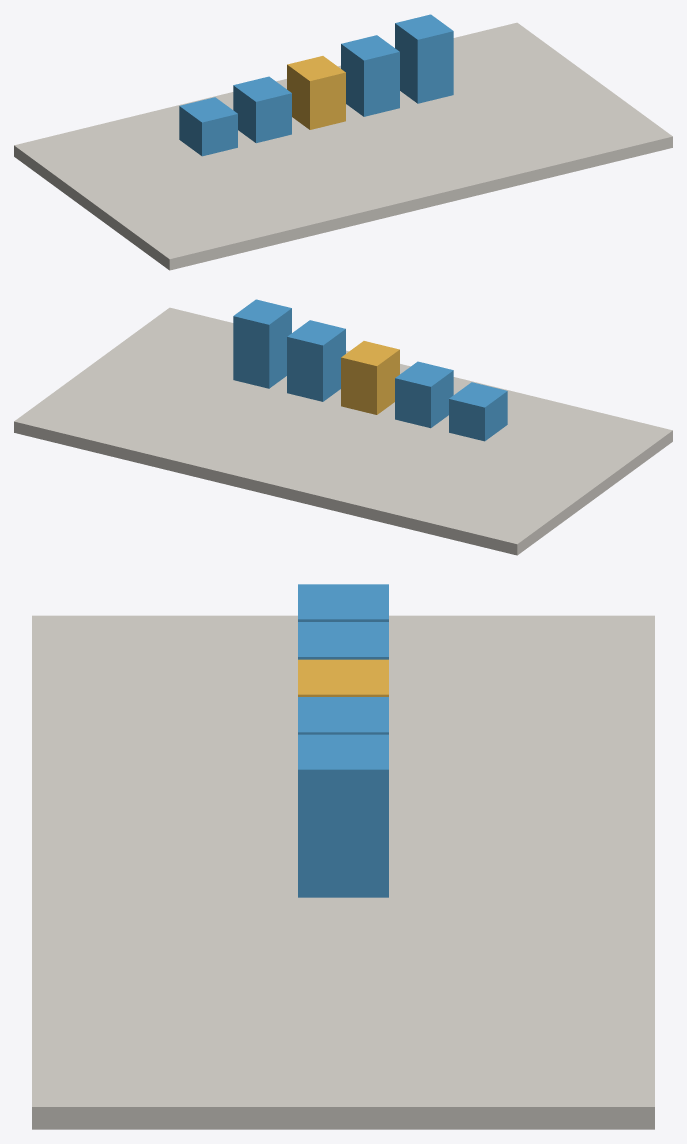
The model's file is math-data-median.glb.
3 views of the same model, one above another, from view 1: azimuth 30°, elevation 25°; view 2: azimuth 150°, elevation 25°; view 3: azimuth 270°, elevation 25° (orthographic). The views are drawn at different scales.
Parts seen in each view (by area): view 1: manipulative-base, sorted-block-5, sorted-block-4, sorted-block-3, sorted-block-2, sorted-block-1; view 2: manipulative-base, sorted-block-5, sorted-block-4, sorted-block-3, sorted-block-2, sorted-block-1; view 3: manipulative-base, sorted-block-5, sorted-block-1, sorted-block-2, sorted-block-3, sorted-block-4.
Part boxes in pixels (x1,y1,x2,y2): manipulative-base: [14, 22, 672, 270]; sorted-block-5: [395, 14, 453, 103]; sorted-block-4: [341, 35, 399, 116]; sorted-block-3: [287, 56, 345, 129]; sorted-block-2: [233, 76, 291, 143]; sorted-block-1: [179, 97, 237, 156]; manipulative-base: [14, 307, 672, 555]; sorted-block-5: [233, 299, 291, 388]; sorted-block-4: [287, 320, 345, 401]; sorted-block-3: [341, 341, 399, 414]; sorted-block-2: [395, 361, 453, 428]; sorted-block-1: [449, 382, 507, 441]; manipulative-base: [32, 615, 654, 1129]; sorted-block-5: [298, 734, 388, 897]; sorted-block-1: [298, 584, 388, 621]; sorted-block-2: [298, 622, 388, 659]; sorted-block-3: [298, 659, 388, 696]; sorted-block-4: [298, 697, 388, 734].
Size of what is drawn, in the model's own units: 2.8 by 0.56 by 1.5.
